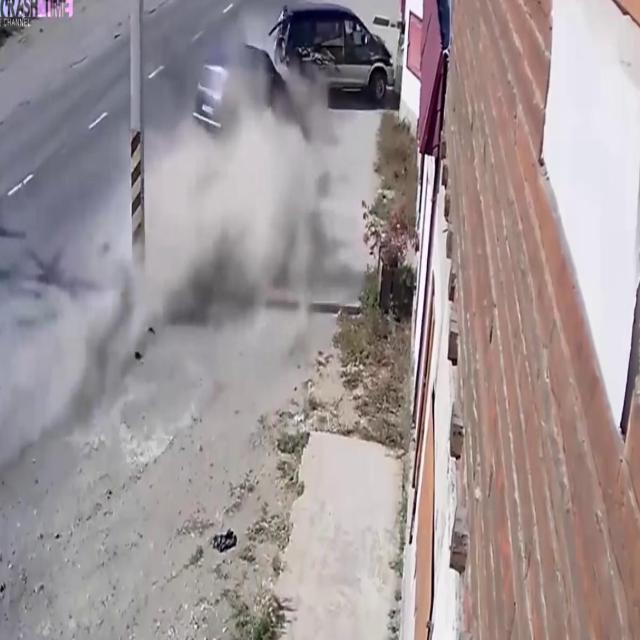accident: (190, 1, 398, 187)
